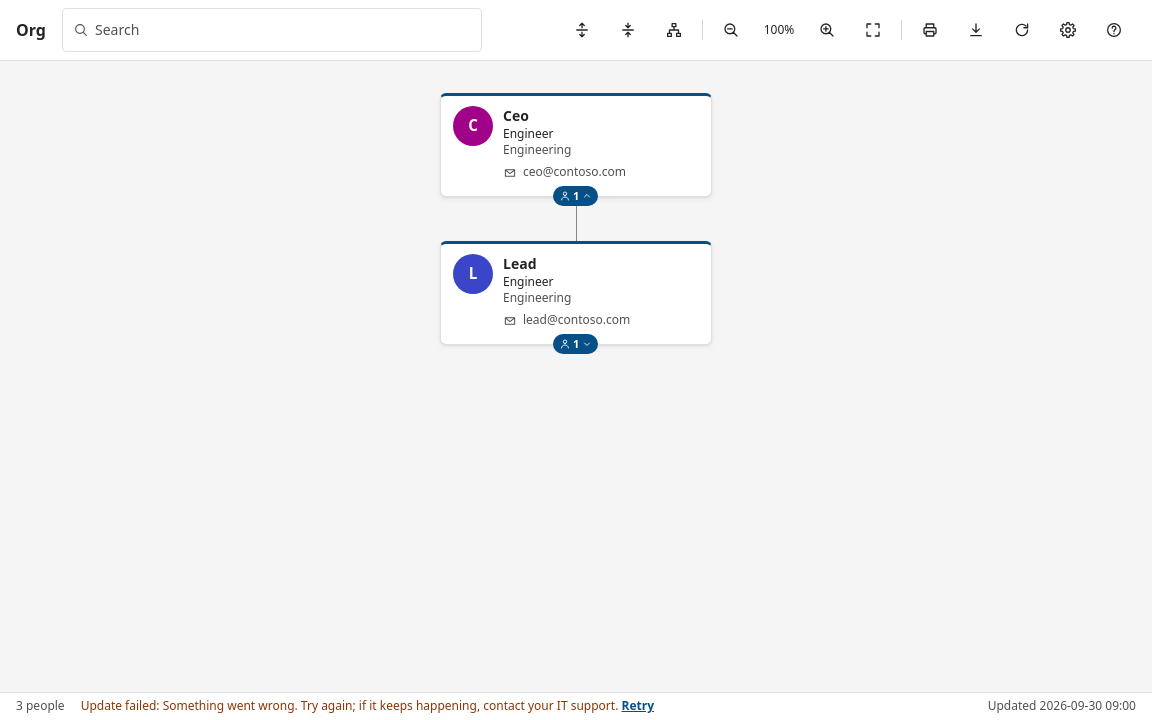
Test: OrgChartPage › announces a failed refresh, also an automatic one, and the retry a person starts
Expected: the footer is shown, [0,692,1151,719]
Expected: the footer does not show ""
Click the button "Retry".
click(638, 707)  # box [622,698,654,715]
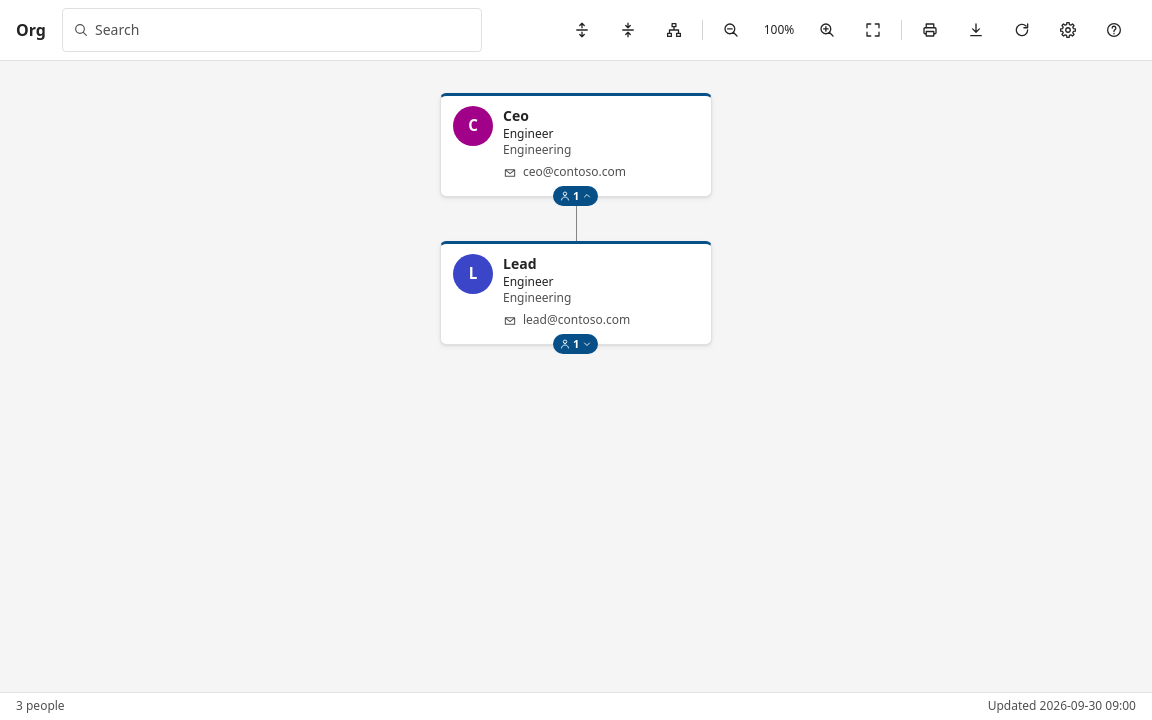
Expected: the footer no longer shows "Update failed"
